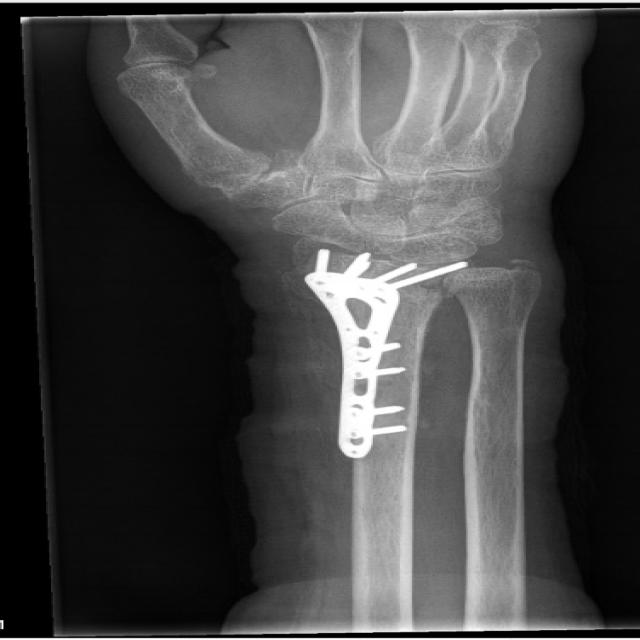x-ray: (291, 238, 478, 464)
